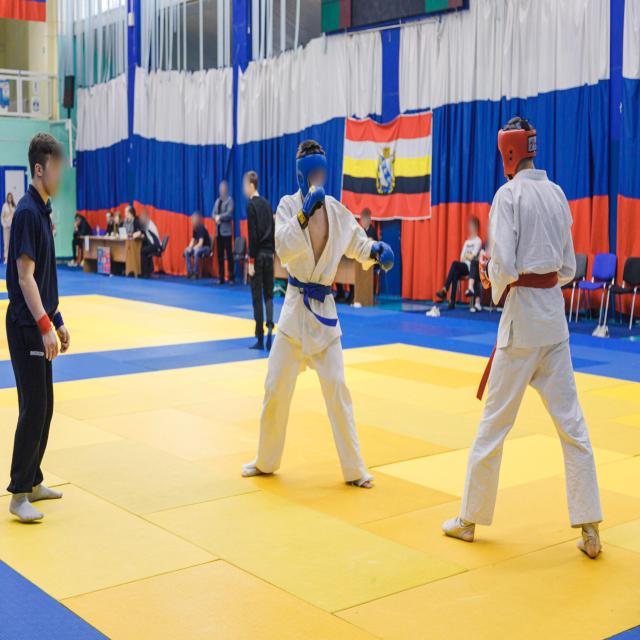Person: (438, 103, 616, 580), (246, 136, 380, 516), (0, 124, 81, 556), (240, 170, 284, 358), (208, 166, 238, 284), (176, 202, 214, 284), (448, 211, 478, 308), (142, 202, 164, 276), (69, 210, 98, 266), (0, 183, 16, 270), (101, 209, 117, 243), (126, 198, 138, 240), (112, 206, 122, 248)
